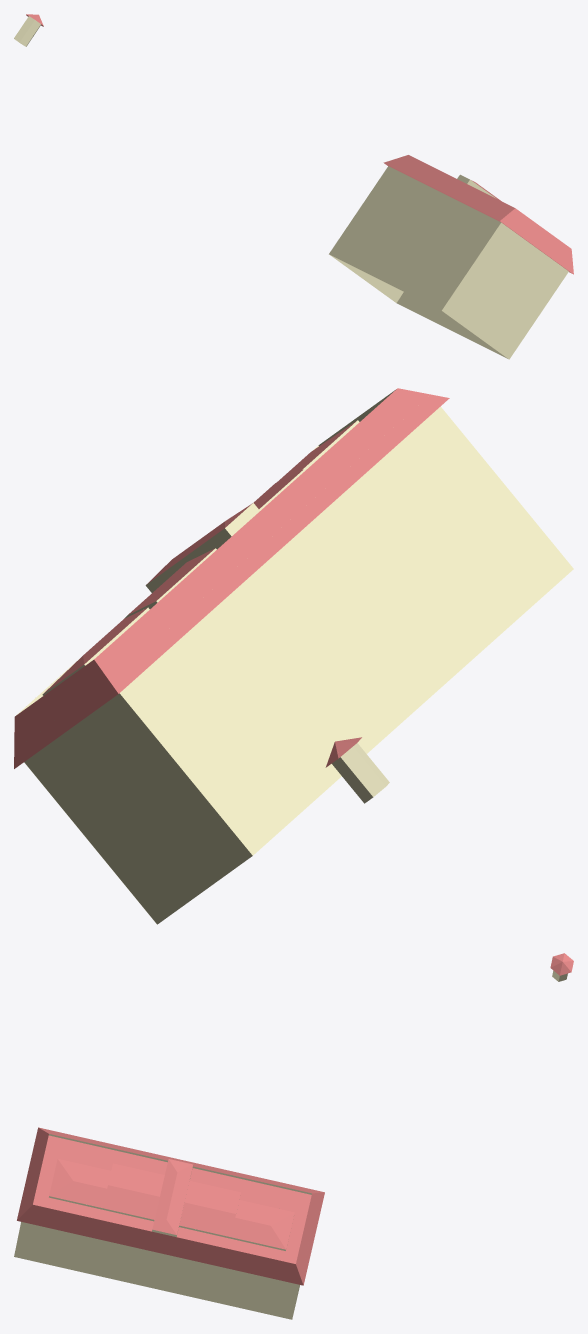
File: tile_045.glb
3 views of the same model, one above another, from view 1: azimuth 30°, elevation 25°; view 2: azimuth 150°, elevation 25°; view 3: azimuth 270°, elevation 25° (orthographic). The views are drawn at different scales.
Visible parts, largest first — view 1: Batched_Building_ID_7EFF42B2-E154-46AC-A6E4-AE78A5C5A5A4; view 2: Batched_Building_ID_7EFF42B2-E154-46AC-A6E4-AE78A5C5A5A4; view 3: Batched_Building_ID_7EFF42B2-E154-46AC-A6E4-AE78A5C5A5A4.
Boxes of the visible parts, <box> form: Batched_Building_ID_7EFF42B2-E154-46AC-A6E4-AE78A5C5A5A4: <box>14,14,573,359</box>; Batched_Building_ID_7EFF42B2-E154-46AC-A6E4-AE78A5C5A5A4: <box>14,388,573,924</box>; Batched_Building_ID_7EFF42B2-E154-46AC-A6E4-AE78A5C5A5A4: <box>14,953,573,1319</box>.
Bounding box in the file's own units: 83.05 × 61.6 × 125.
